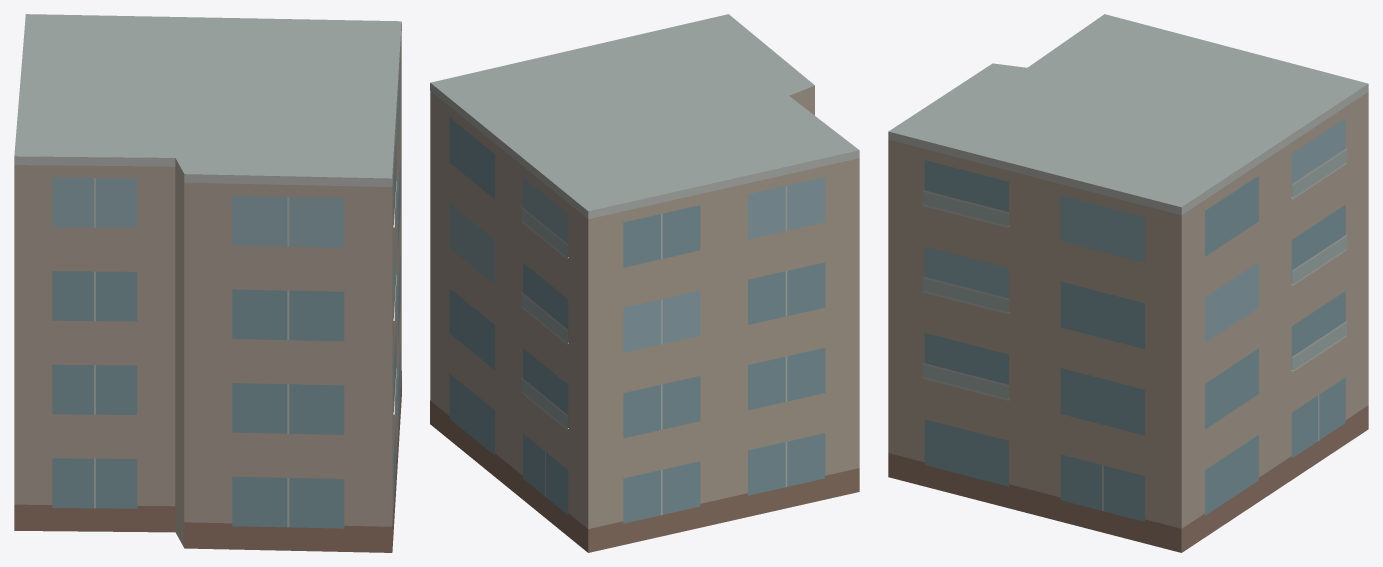
File: survey-upis-32864855.glb
3 views of the same model, side by side, from view 1: azimuth 30°, elevation 25°; view 2: azimuth 150°, elevation 25°; view 3: azimuth 270°, elevation 25° (orthographic). The views are drawn at different scales.
Parts seen in each view (by area): view 1: survey-upis-32864855.tmp; view 2: survey-upis-32864855.tmp; view 3: survey-upis-32864855.tmp.
Boxes of the visible parts, box(x1,y1,x2,y2) form: survey-upis-32864855.tmp: box(14, 14, 401, 552); survey-upis-32864855.tmp: box(430, 14, 859, 552); survey-upis-32864855.tmp: box(888, 14, 1368, 552).
Bounding box in the file's own units: 12.73 × 10.6 × 13.36.
